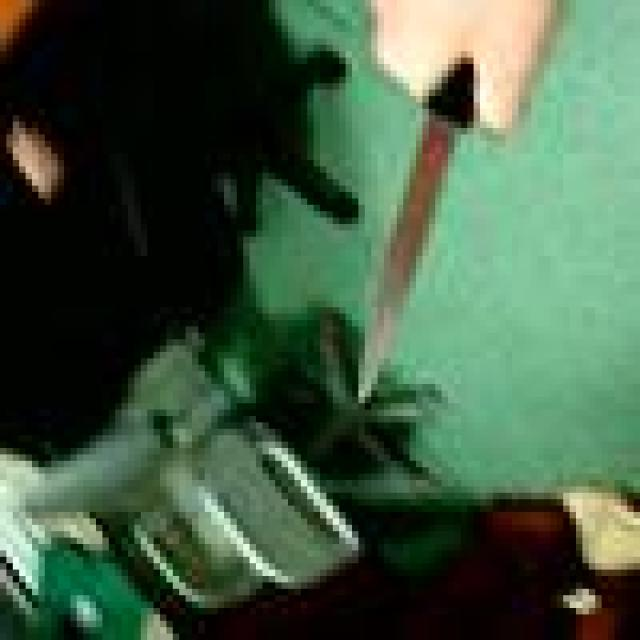knife: (364, 107, 453, 392)
